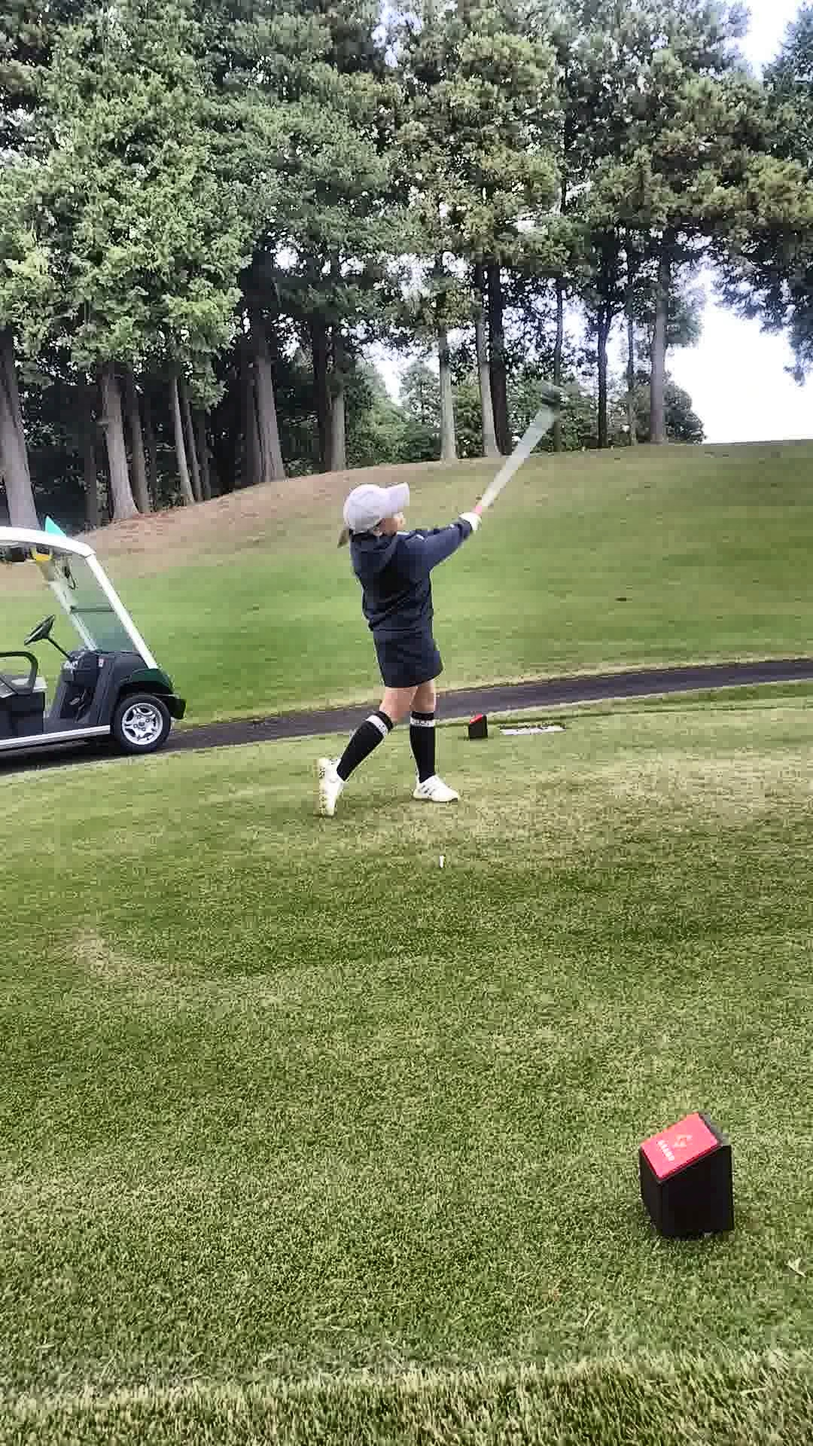clubhead: (495, 351, 616, 430)
